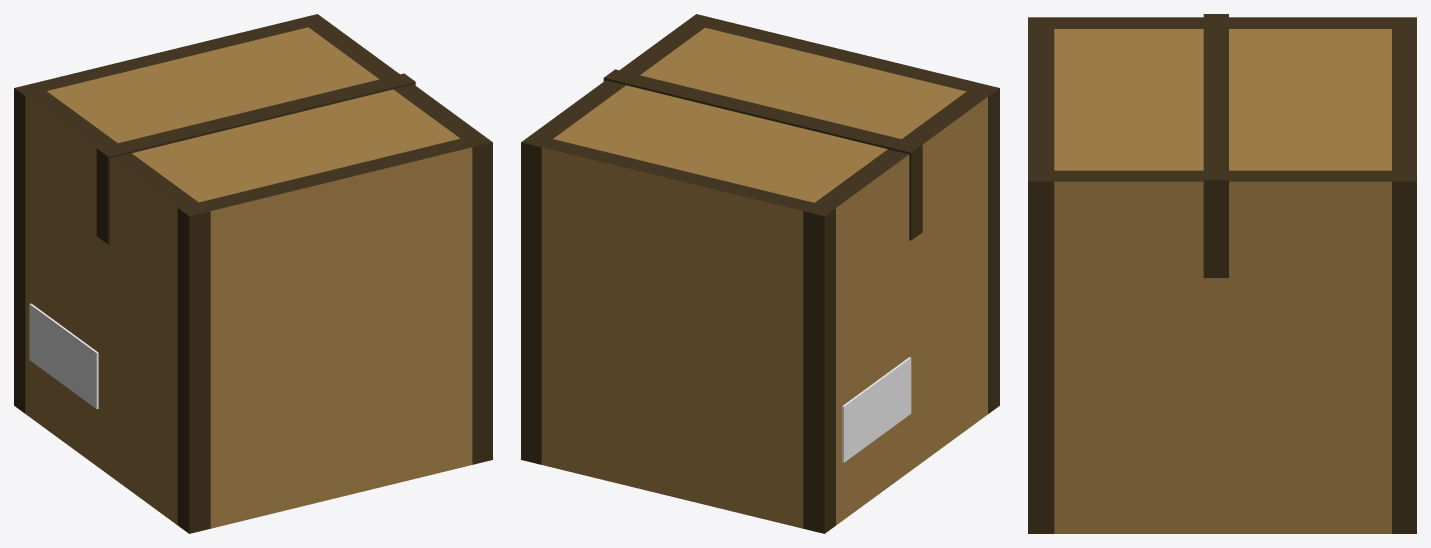
File: carton 5.FBX
The picture shows the model from 3 angles, left to right: view 1: azimuth 30°, elevation 25°; view 2: azimuth 150°, elevation 25°; view 3: azimuth 270°, elevation 25°; orthographic projection. The views are drawn at different scales.
Parts seen in each view (by area): view 1: Box008; view 2: Box008; view 3: Box008.
Boxes of the visible parts, x1,y1,x2,y2 form: Box008: [14, 14, 492, 533]; Box008: [521, 14, 999, 533]; Box008: [1028, 14, 1416, 533].
Bounding box in the file's own units: 142 × 141 × 140.
